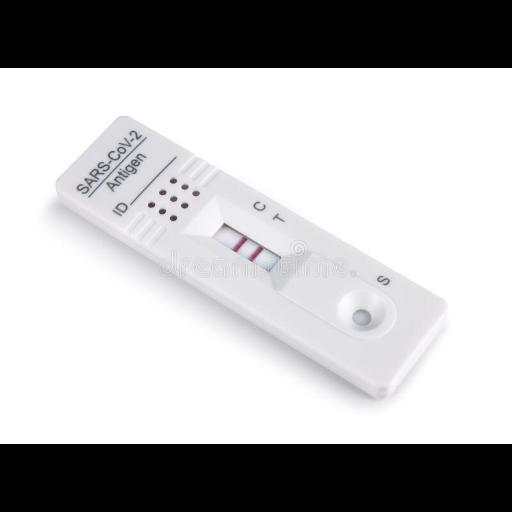Pos: (52, 114, 450, 391)
